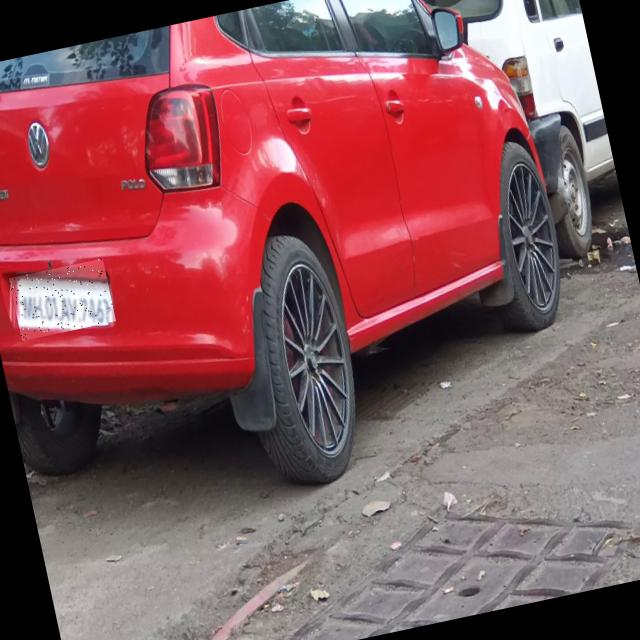Plate: (10, 259, 117, 342)
